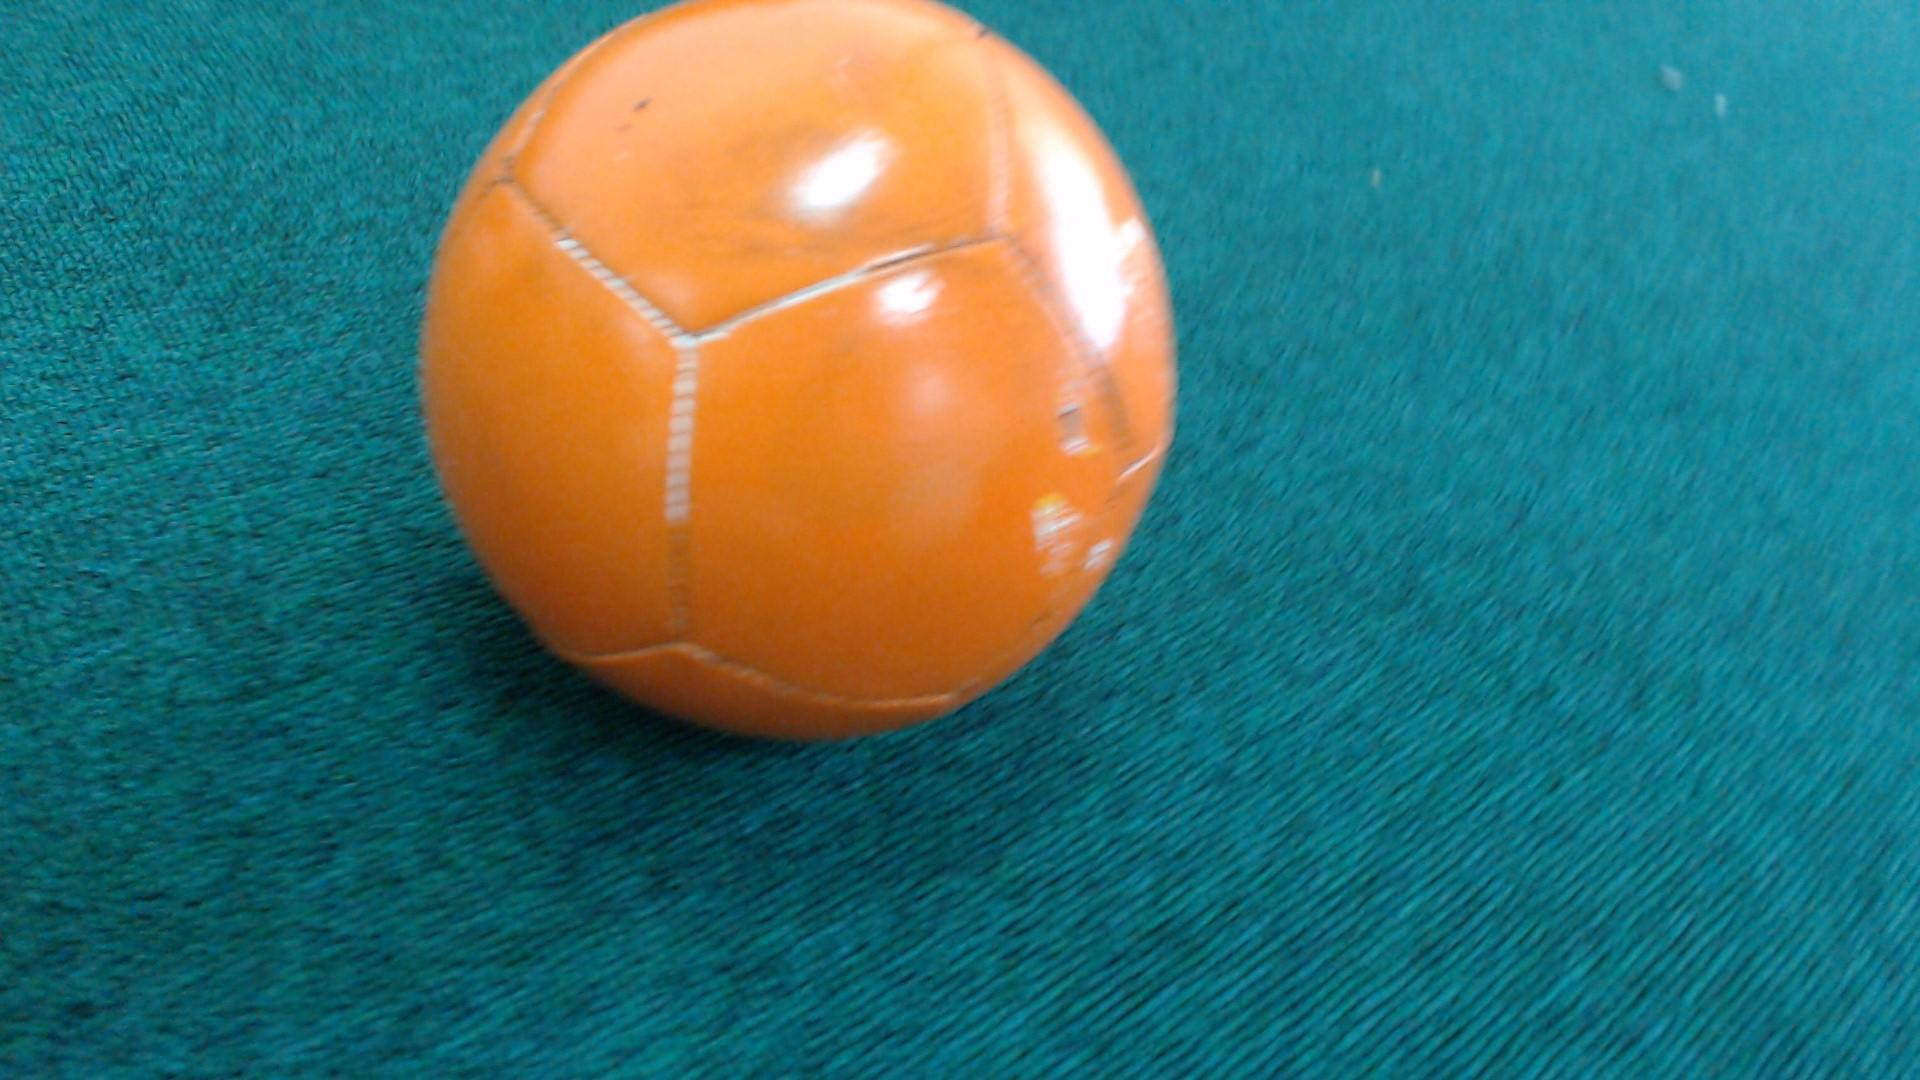bola: (364, 0, 1199, 773)
